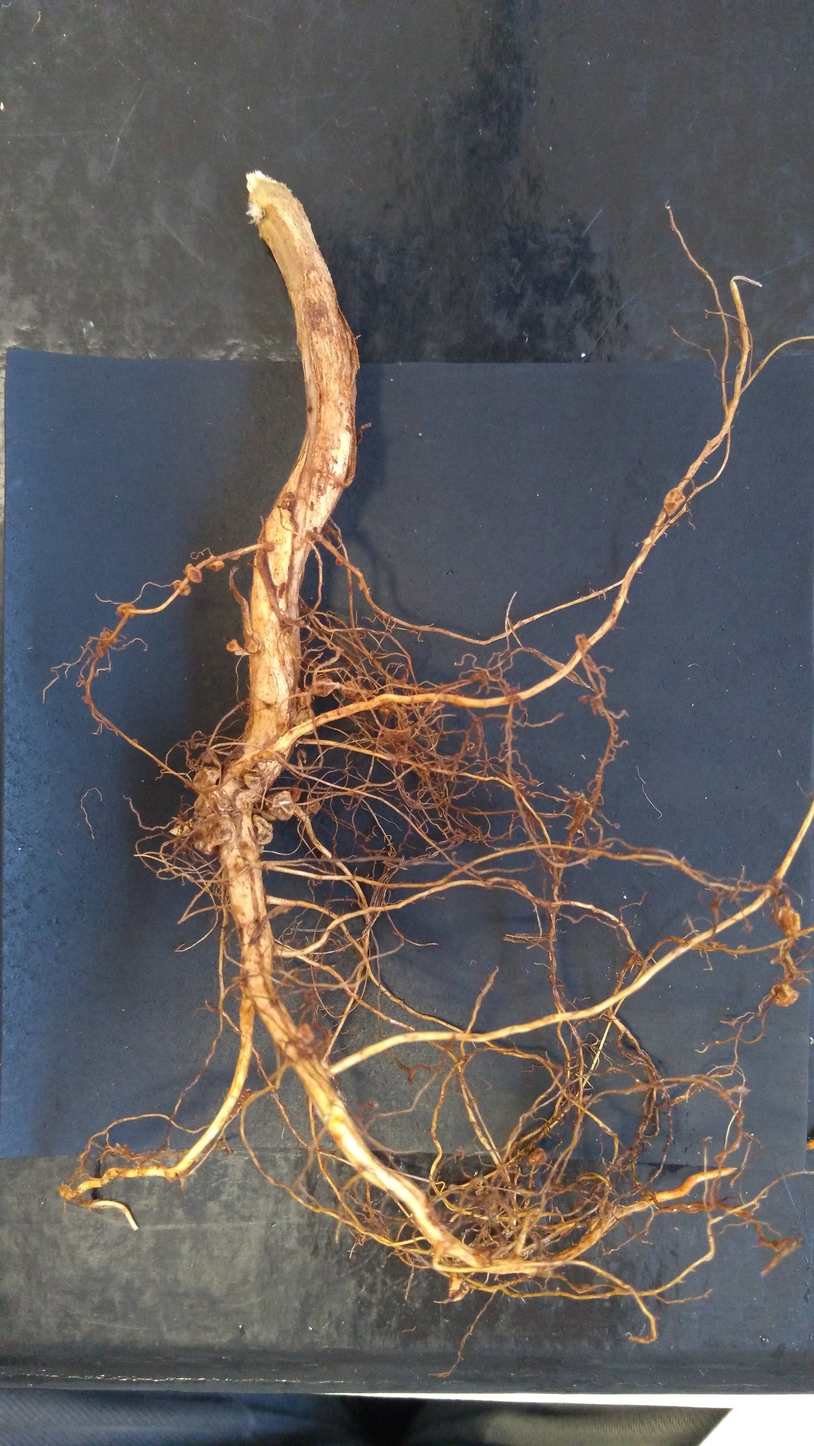nodule: (191, 808, 234, 861), (240, 759, 283, 791), (769, 905, 804, 941), (245, 811, 274, 850), (763, 978, 802, 1006), (660, 483, 689, 520), (265, 788, 295, 822), (187, 761, 223, 789), (523, 1145, 556, 1170), (291, 707, 318, 736), (305, 676, 338, 698), (113, 599, 143, 623), (169, 578, 193, 602), (336, 676, 358, 701), (184, 561, 205, 587), (97, 630, 117, 657), (193, 792, 214, 816), (200, 556, 226, 574), (245, 636, 266, 657), (288, 781, 303, 805), (223, 636, 241, 655), (297, 690, 315, 708), (377, 704, 390, 717), (82, 693, 94, 705), (131, 736, 140, 747), (335, 557, 342, 566), (356, 581, 363, 590)
